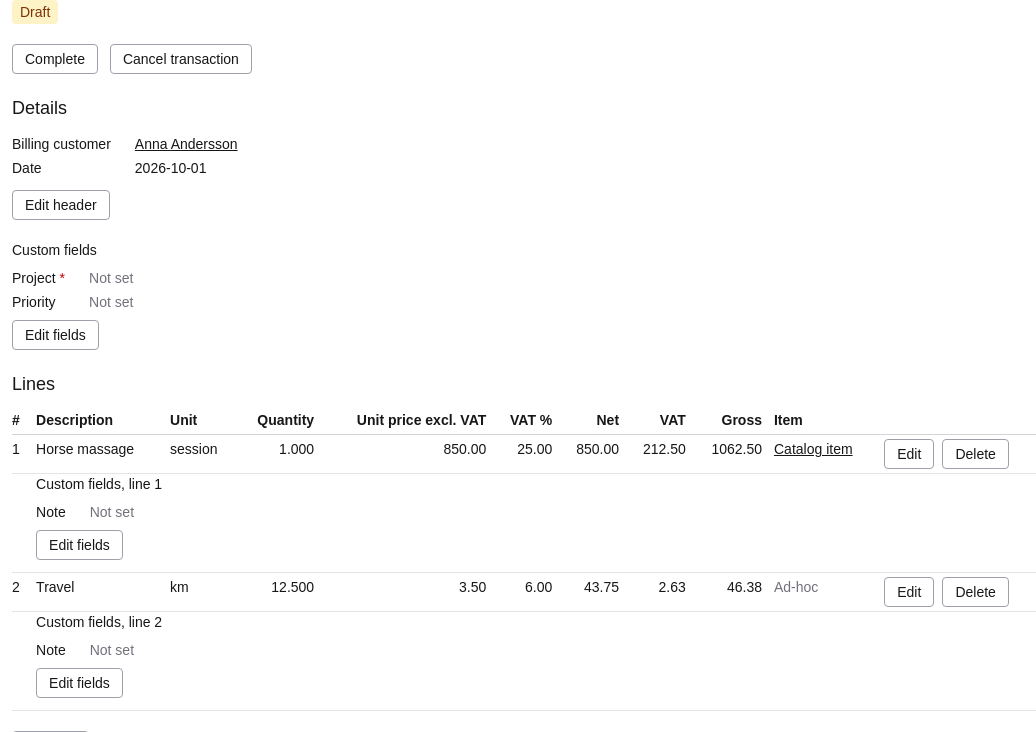
Test case: failures › a 422 shows on the specific field, with no banner, and keeps the draft
Step 1. Click the button with test id "edit-fields" below "Custom fields, line 1" → click(79, 545), box x1=36 y1=530 x2=123 y2=560
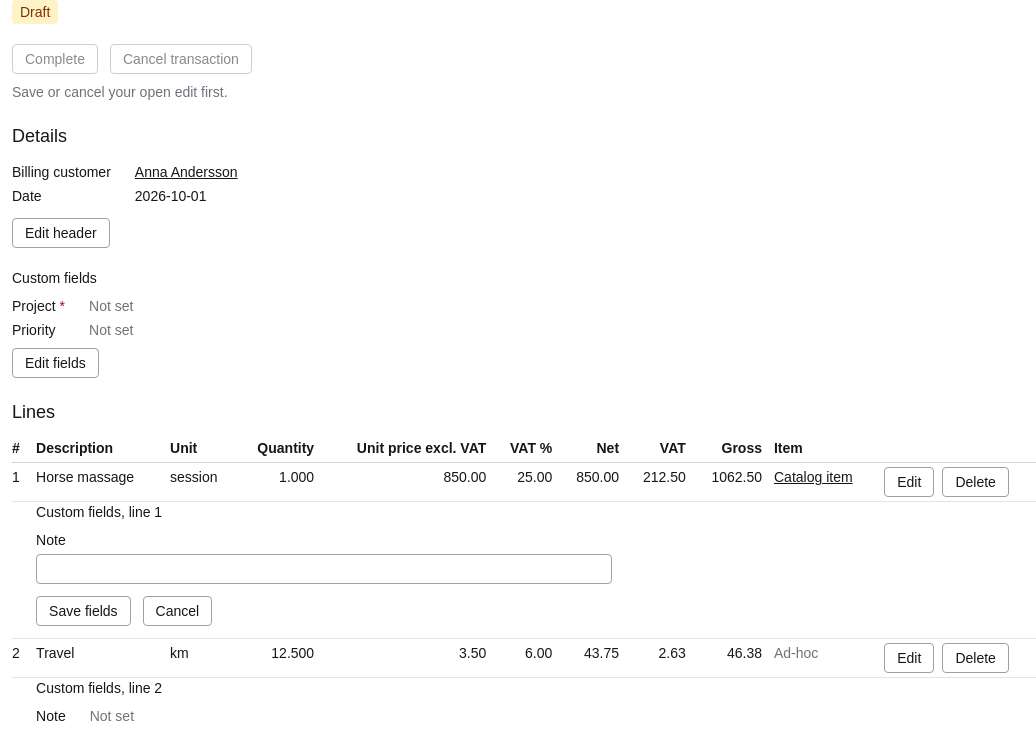
Step 2. Type "x" into the field labelled "Note" → (324, 569), box x1=36 y1=554 x2=612 y2=584
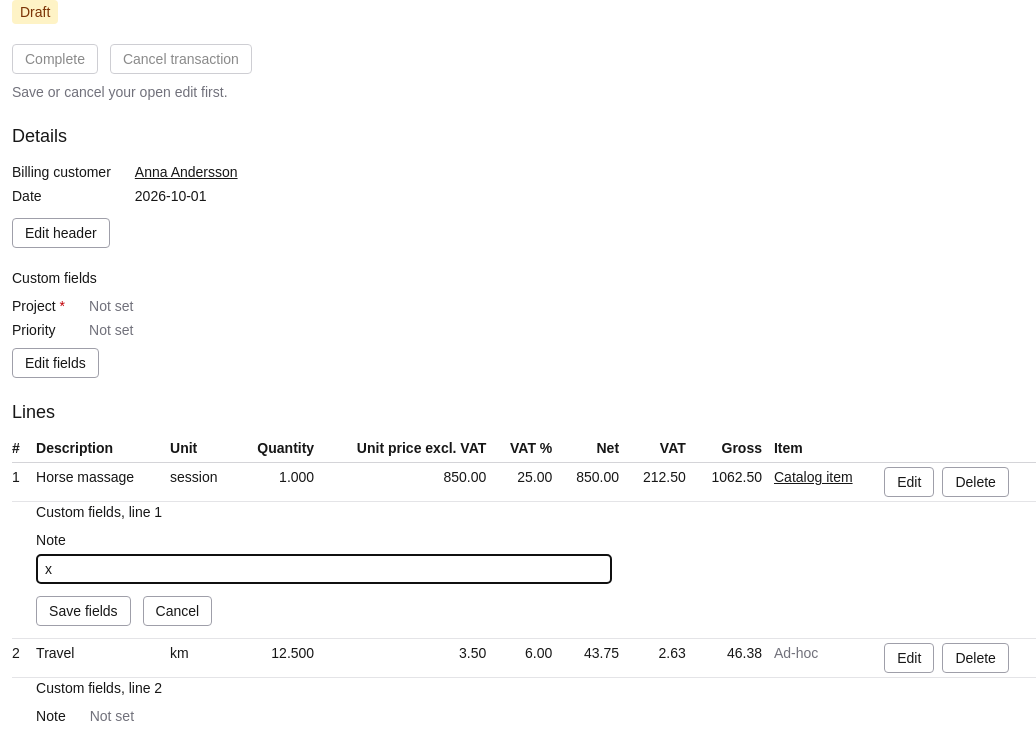
Step 3. Click the button with test id "save-fields" → click(83, 611), box x1=36 y1=596 x2=131 y2=626
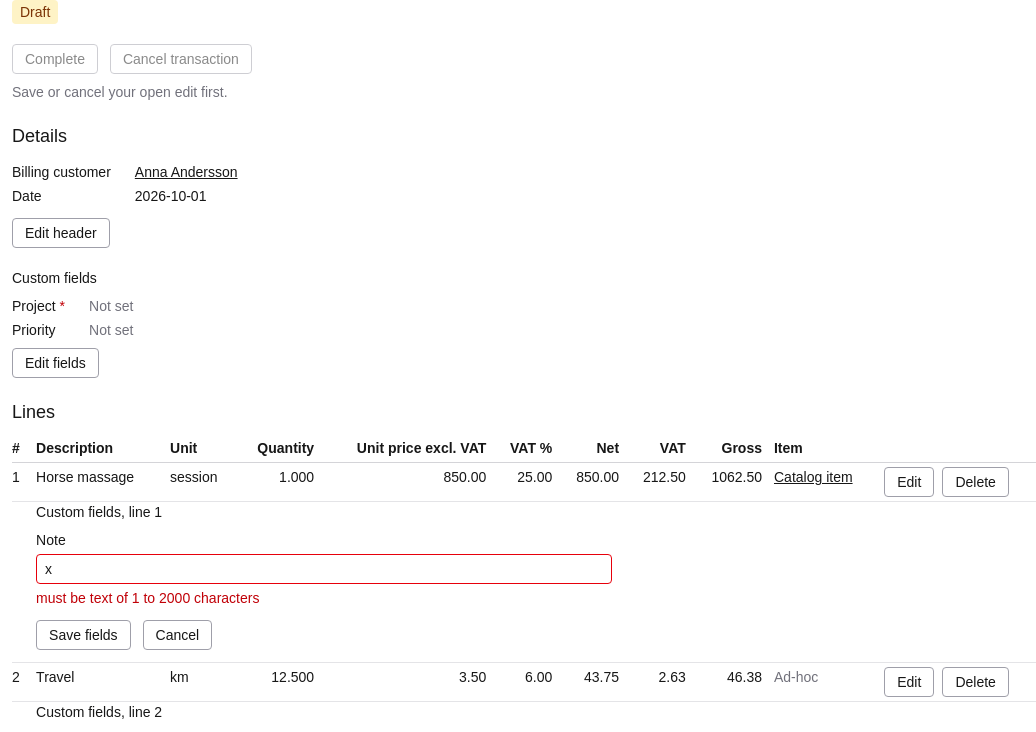
Now the text with test id "error-note" shows "1 to 2000", box x1=36 y1=590 x2=259 y2=606
